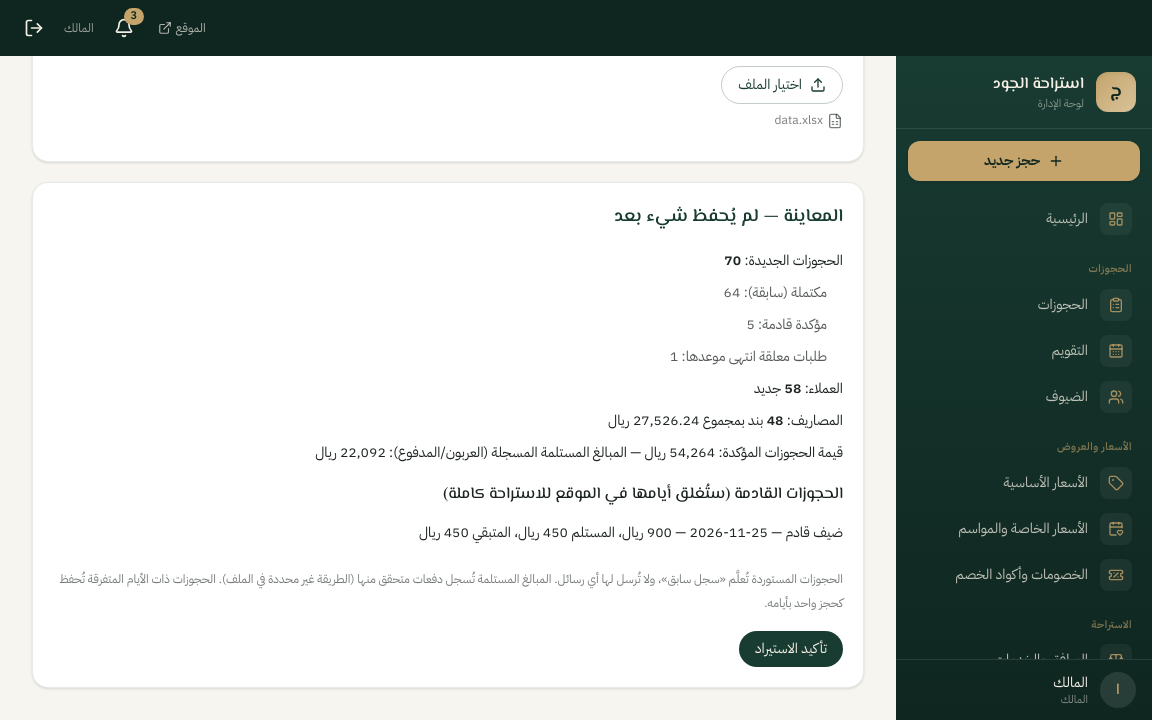
Scenario: previous records import, expenses and reports › previews the file, then imports only after confirmation
The width and height of the screenshot is (1152, 720).
Earlier steps of the test are not shown.
(page scrolled)
Expected: the heading "المعاينة — لم يُحفظ شيء بعد" is shown, [614,203,843,231]
Expected: the list item "ضيف قادم" shows "المتبقي 450 ريال", [419,522,843,543]
Click the button "تأكيد الاستيراد" at x=791, y=649, box [739,631,843,667]
(page scrolled)
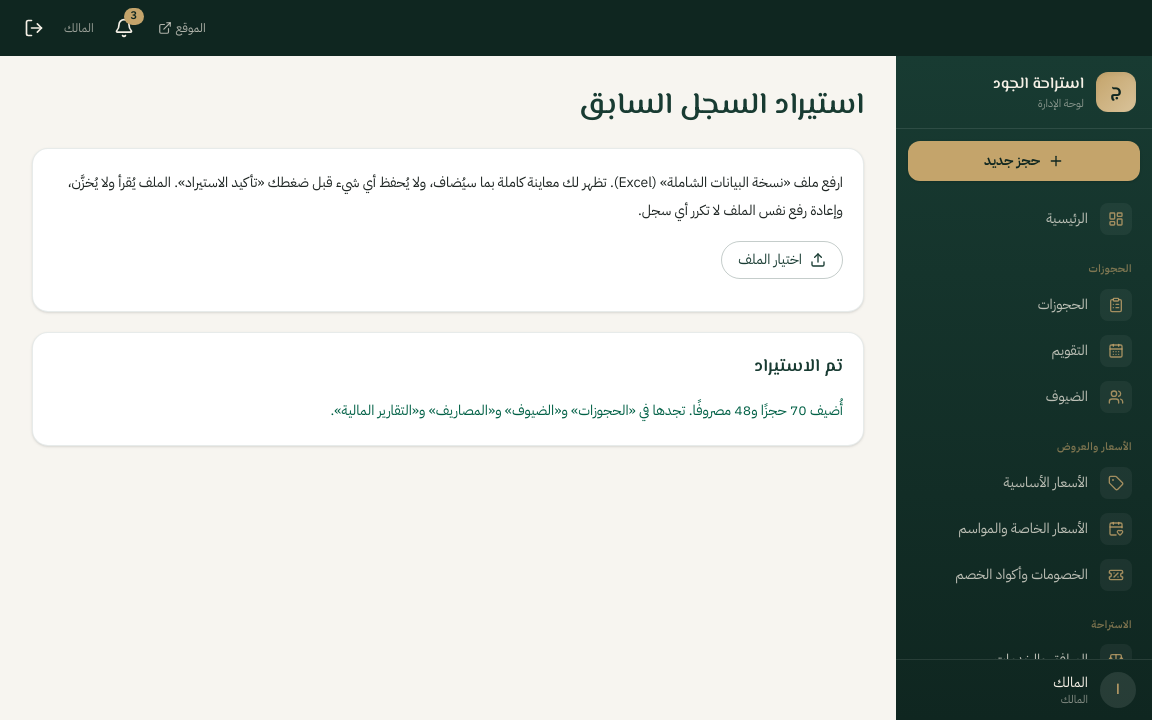
Expected: the text "أُضيف 70 حجزًا و48 مصروفًا" is shown, [330,400,843,421]
